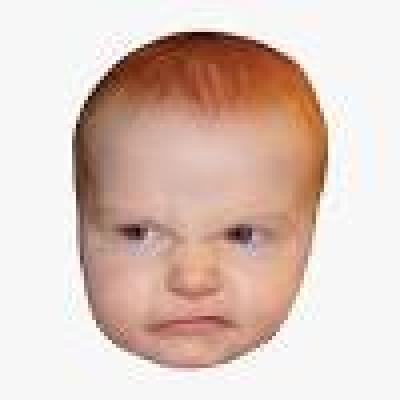angry: (82, 53, 298, 358)
